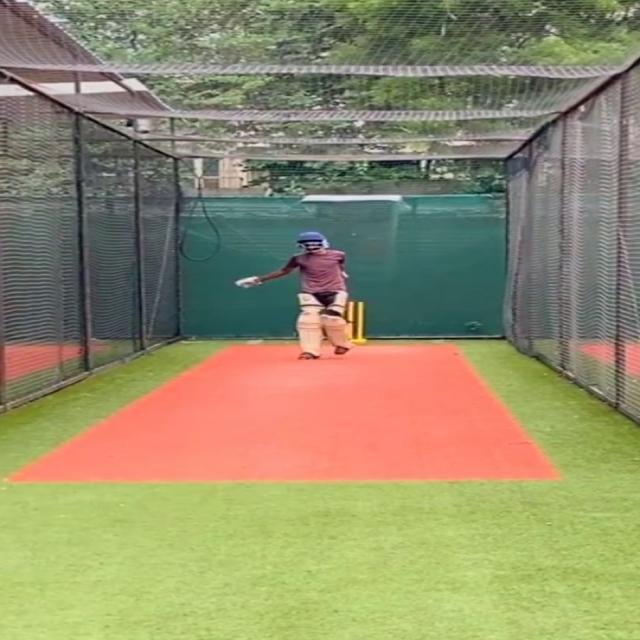stump: (346, 301, 366, 344)
